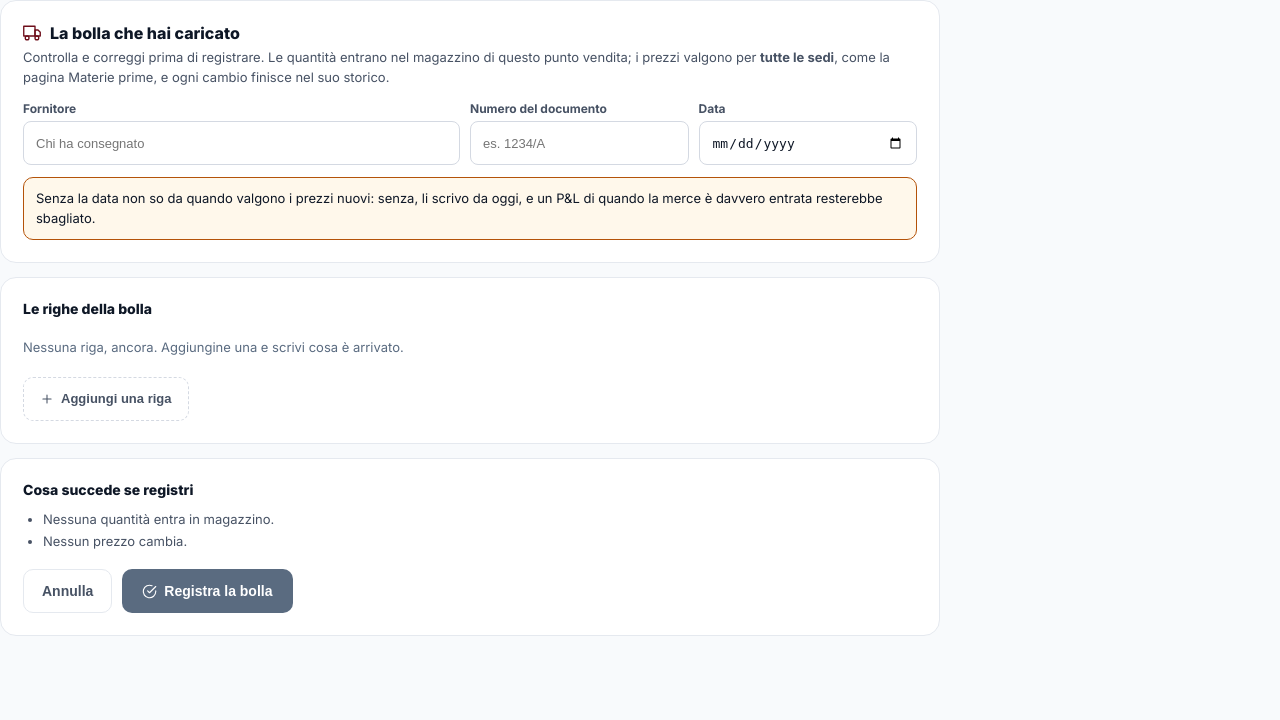
Scrivere la bolla a mano › si parte da zero righe e se ne aggiunge una
What coordinates should you click on to do the following:
click the button "Aggiungi una riga"
I would click on:
 (106, 399)
Its box is [23, 377, 188, 421].
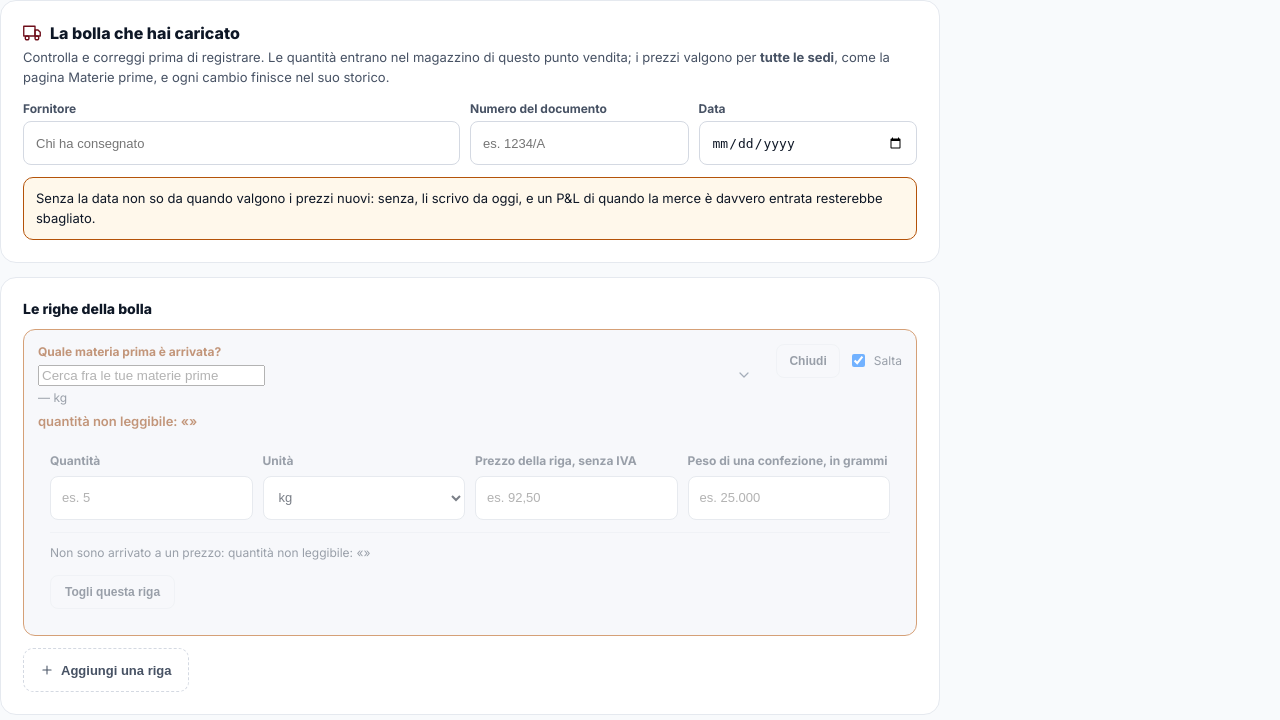
Expected: the field labelled "Quantità" is shown, [50, 476, 252, 520]
